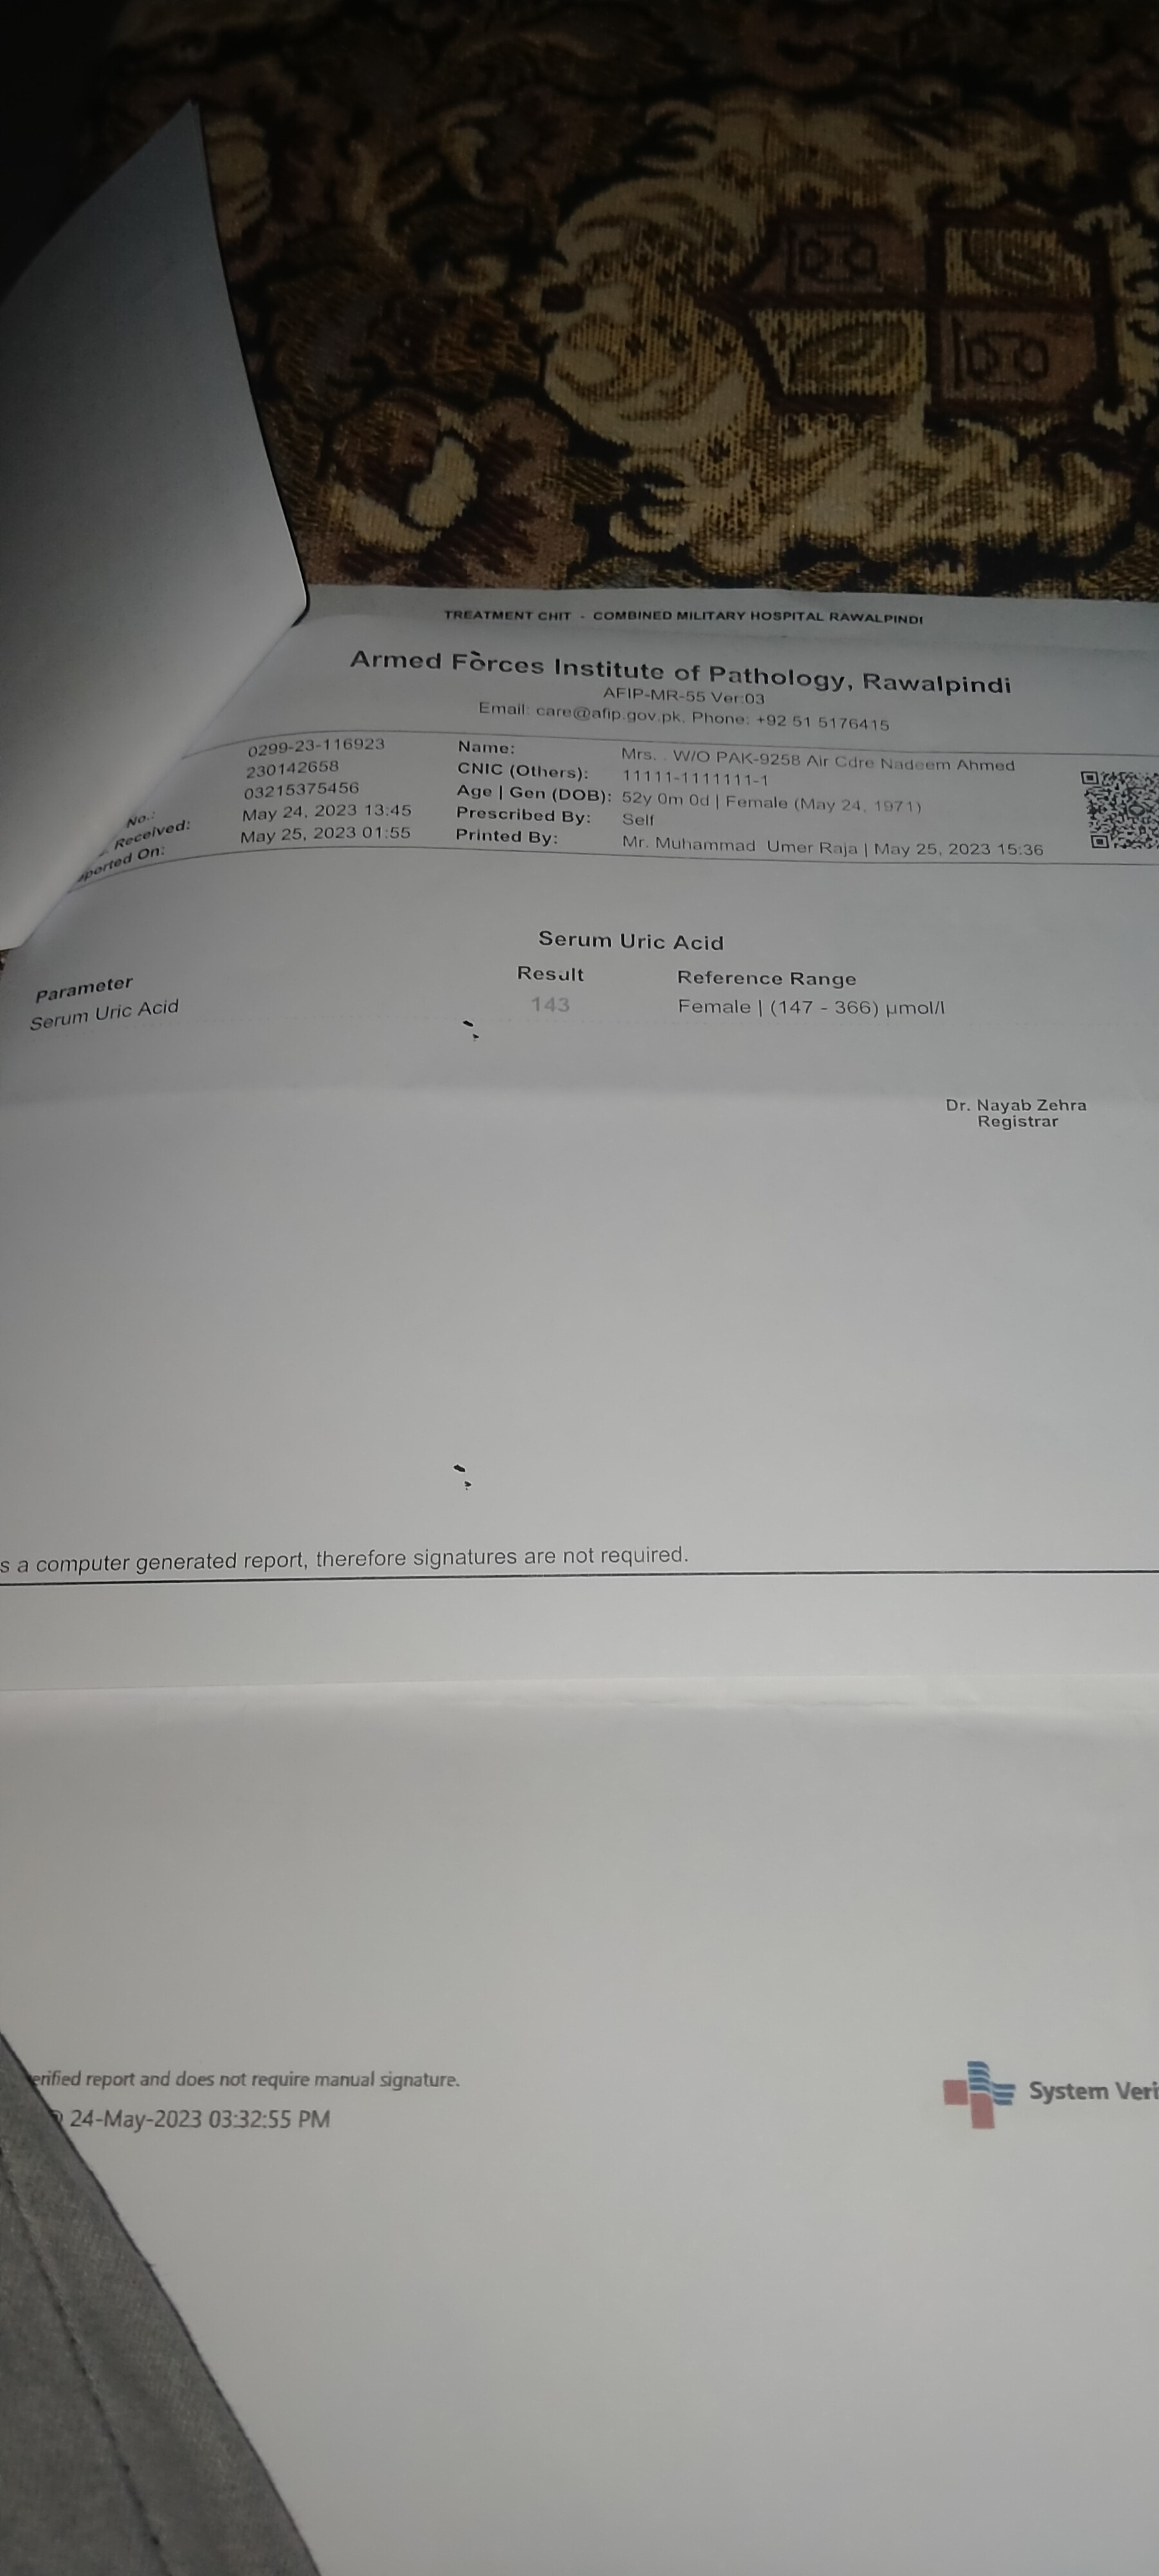report: (10, 869, 1159, 1157)
